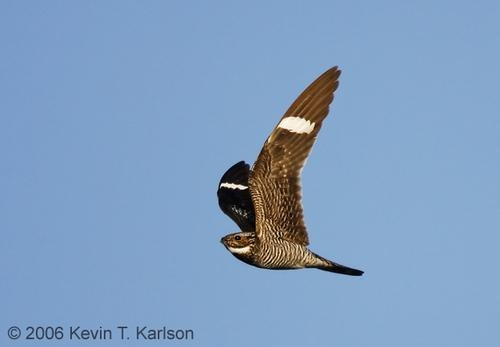bird: (213, 65, 364, 282)
